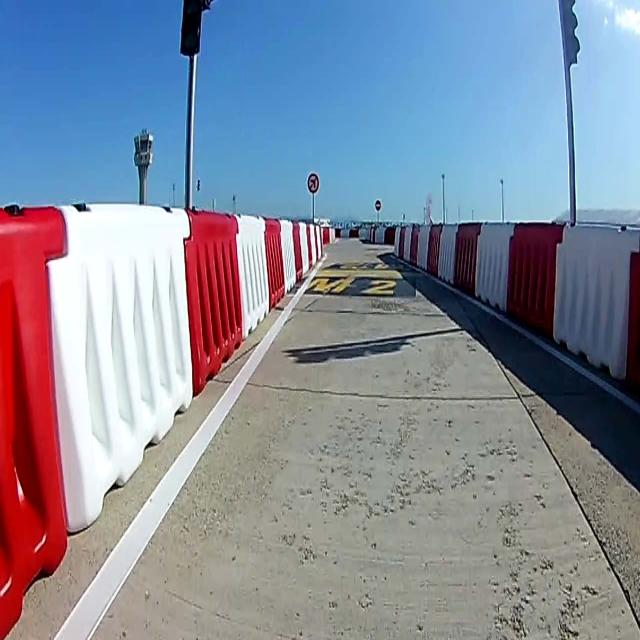girisyok: (375, 200, 381, 212)
soladonulmez: (307, 172, 319, 192)
